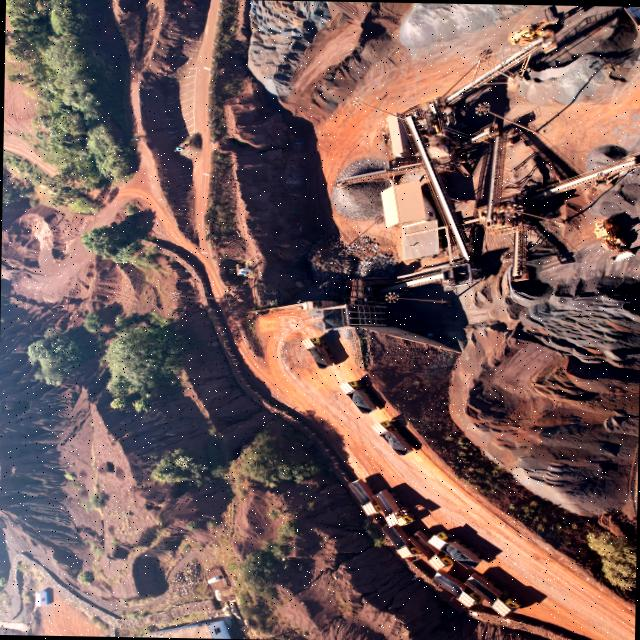Dumper truck: (464, 567, 526, 615), (358, 481, 411, 525), (433, 530, 474, 566), (434, 571, 476, 606), (339, 377, 378, 414), (373, 420, 416, 452), (385, 526, 425, 557), (302, 334, 333, 369), (622, 5, 640, 39), (632, 148, 640, 165)
